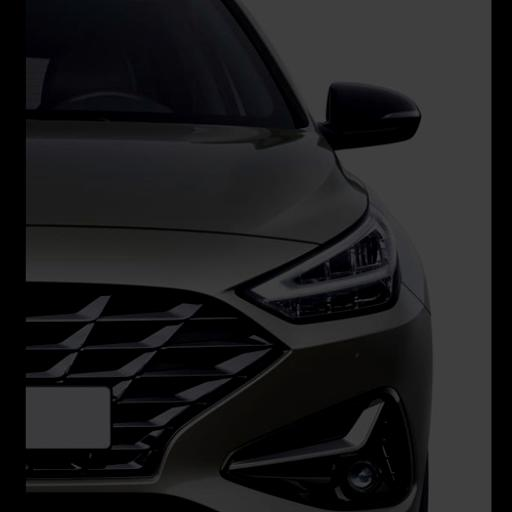hatchback: (26, 0, 430, 512)
